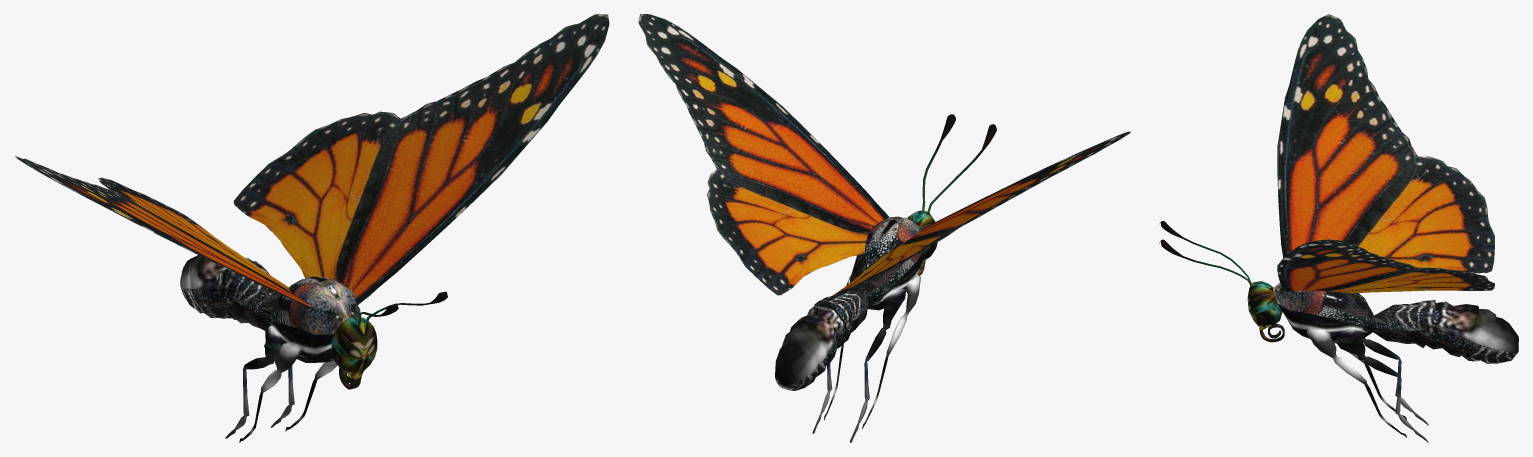
File: mariposa.glb
The picture shows the model from 3 angles, left to right: view 1: azimuth 30°, elevation 25°; view 2: azimuth 150°, elevation 25°; view 3: azimuth 270°, elevation 25°; orthographic projection. The views are drawn at different scales.
Parts seen in each view (by area): view 1: c:/Users/franc/Desktop/ /2018_Excritorio/3D glTF etc/_X3D/W3 (×2), sphere3; view 2: c:/Users/franc/Desktop/ /2018_Excritorio/3D glTF etc/_X3D/W3 (×2), sphere3; view 3: c:/Users/franc/Desktop/ /2018_Excritorio/3D glTF etc/_X3D/W3 (×2), sphere3.
Part boxes in pixels (x1,y1,x2,y2): c:/Users/franc/Desktop/ /2018_Excritorio/3D glTF etc/_X3D/W3 (×2): (15, 14, 609, 313); sphere3: (180, 252, 447, 442); c:/Users/franc/Desktop/ /2018_Excritorio/3D glTF etc/_X3D/W3 (×2): (638, 14, 1130, 305); sphere3: (775, 114, 996, 442); c:/Users/franc/Desktop/ /2018_Excritorio/3D glTF etc/_X3D/W3 (×2): (1277, 14, 1494, 293); sphere3: (1159, 221, 1518, 442).
Bounding box in the file's own units: 8.31 × 5.28 × 5.6.
Materials: 2 (2 with a texture image).
